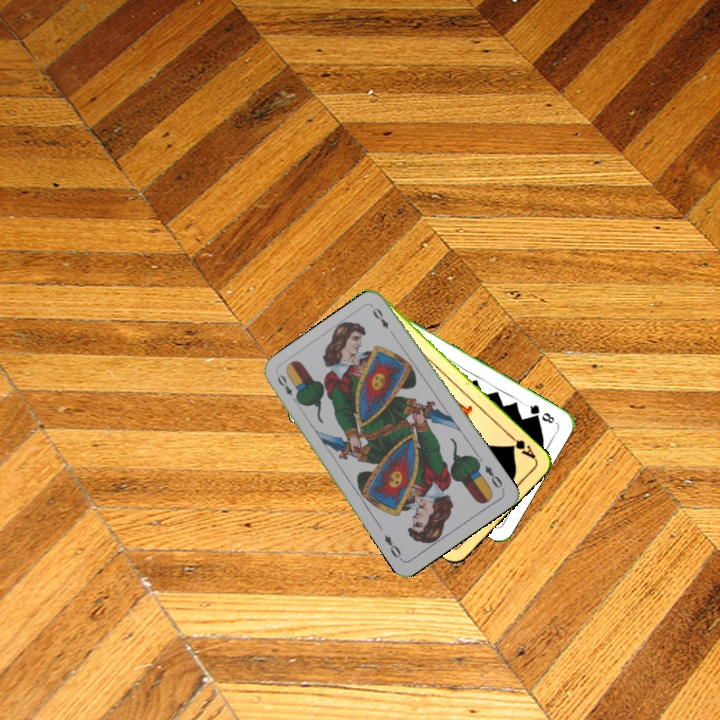EO: (273, 370, 301, 406), (481, 461, 505, 491)
G8: (522, 400, 557, 426)
GA: (505, 430, 538, 462)
